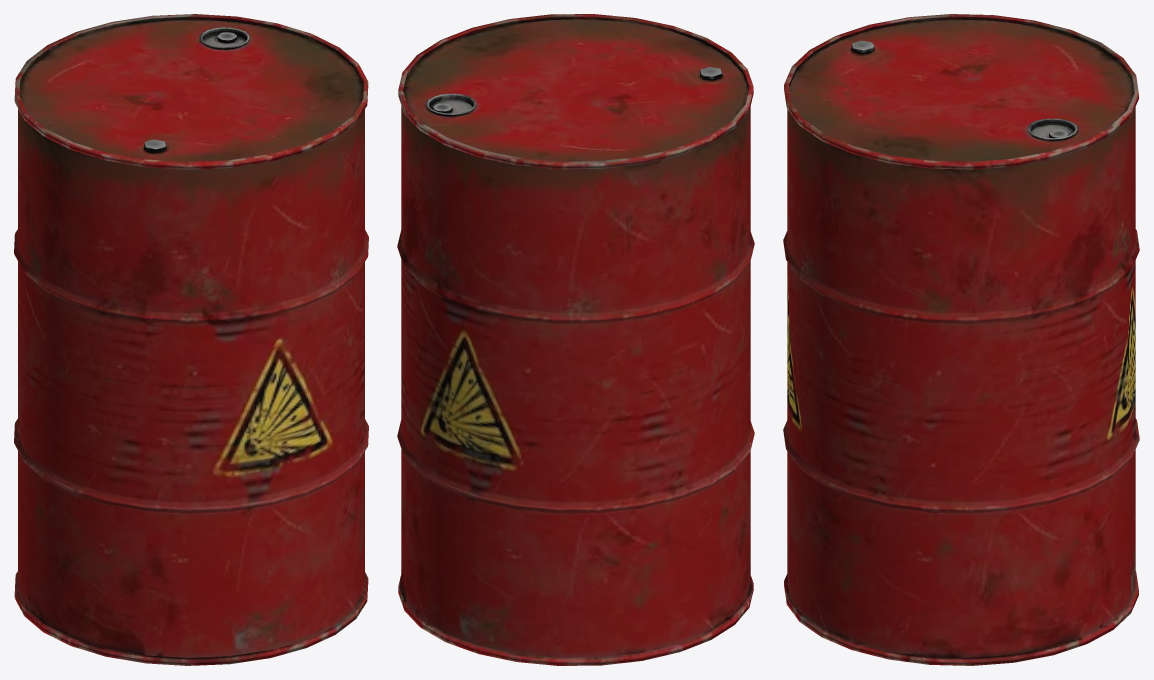
The model's file is barrel.glb.
The picture shows the model from 3 angles, left to right: view 1: azimuth 30°, elevation 25°; view 2: azimuth 150°, elevation 25°; view 3: azimuth 270°, elevation 25°; orthographic projection.
Visible parts, largest first — view 1: Barrel_01; view 2: Barrel_01; view 3: Barrel_01.
Part boxes in pixels (box(x1,y1,x2,y2)): Barrel_01: box(14, 14, 368, 665); Barrel_01: box(397, 14, 754, 665); Barrel_01: box(783, 14, 1139, 665).
Size of the model in its own units: 0.5628 by 0.8789 by 0.5628.
Materials: 1 (1 with a texture image).
